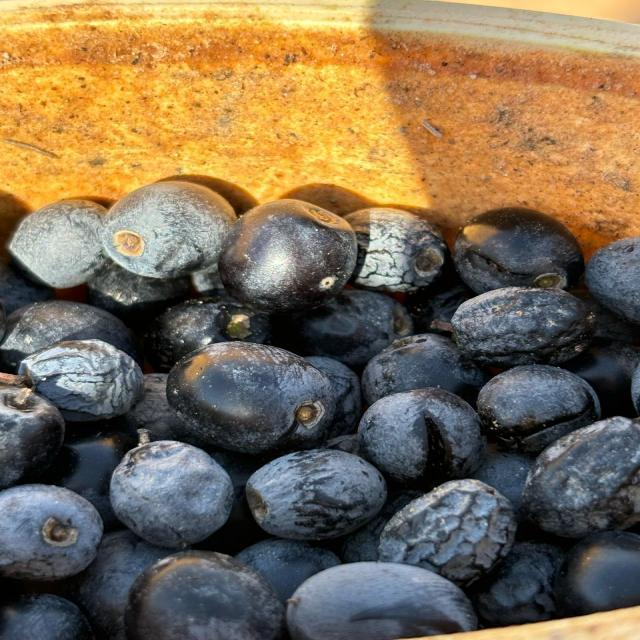Anthracnose: (220, 199, 356, 314)
